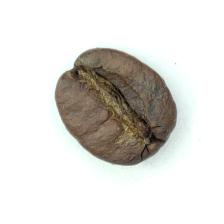NG: (75, 65, 153, 148)
